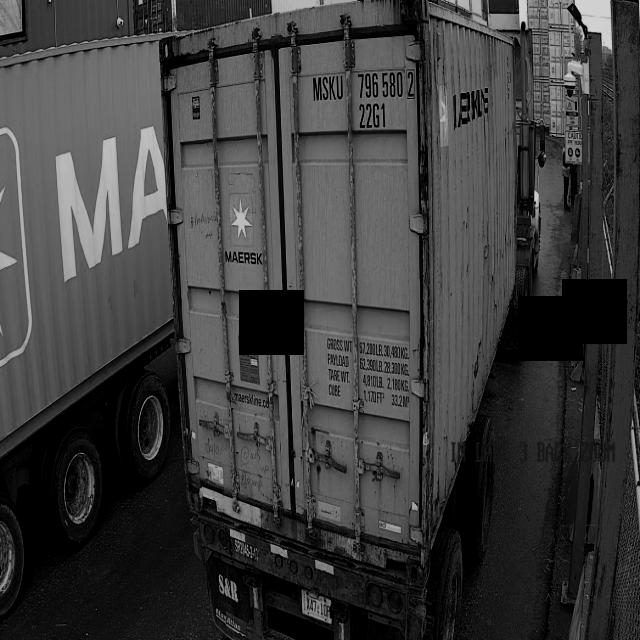container_company_logo: (223, 193, 260, 274)
container_number: (311, 72, 417, 133)
license_plate: (297, 592, 336, 624)
other_container_info: (324, 330, 410, 412)
truck_with_container: (161, 0, 546, 640), (0, 36, 173, 617)
